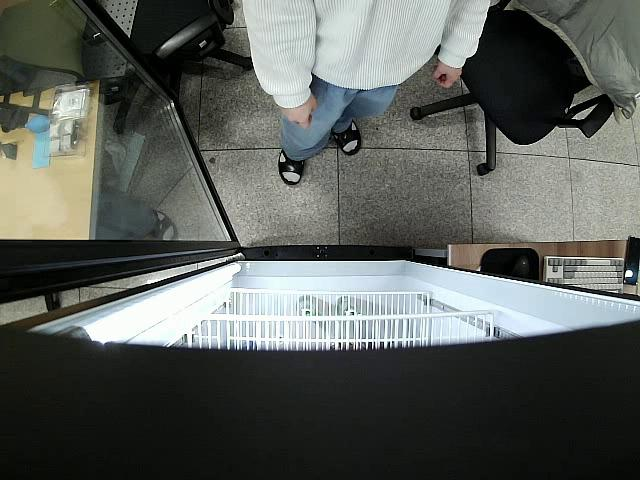00_hand: (429, 60, 465, 89)
